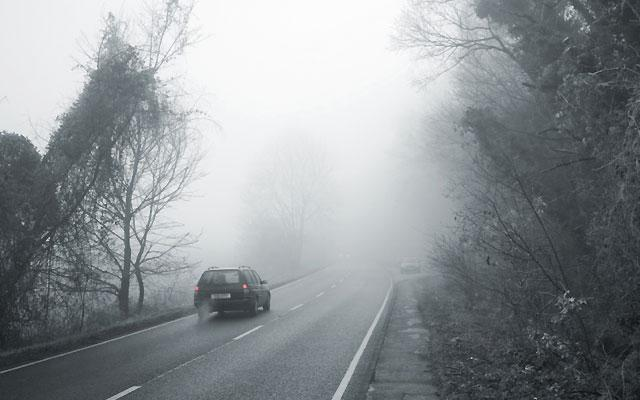car: (193, 265, 271, 319), (400, 256, 421, 274)
